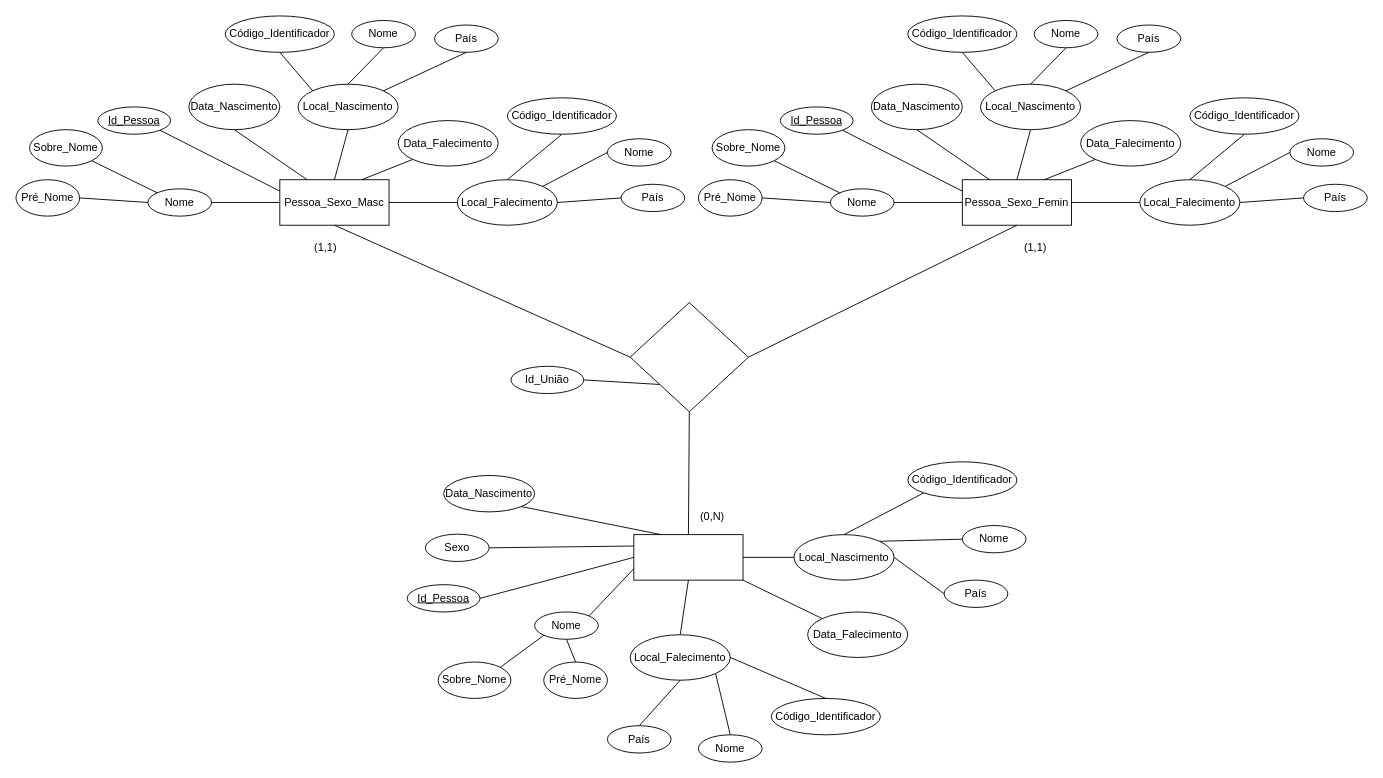
Image size: 1383x778. Some labels were removed from this diagram. Each missing label, with the centre of its shape:
Pessoa_Filho: pixel 688 557
União_Entre: pixel 688 357
